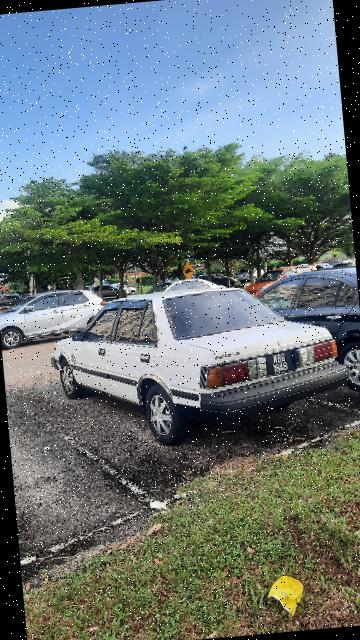License_Plate: (264, 347, 304, 379)
car: (44, 276, 355, 450), (250, 267, 360, 399), (1, 286, 116, 347)
